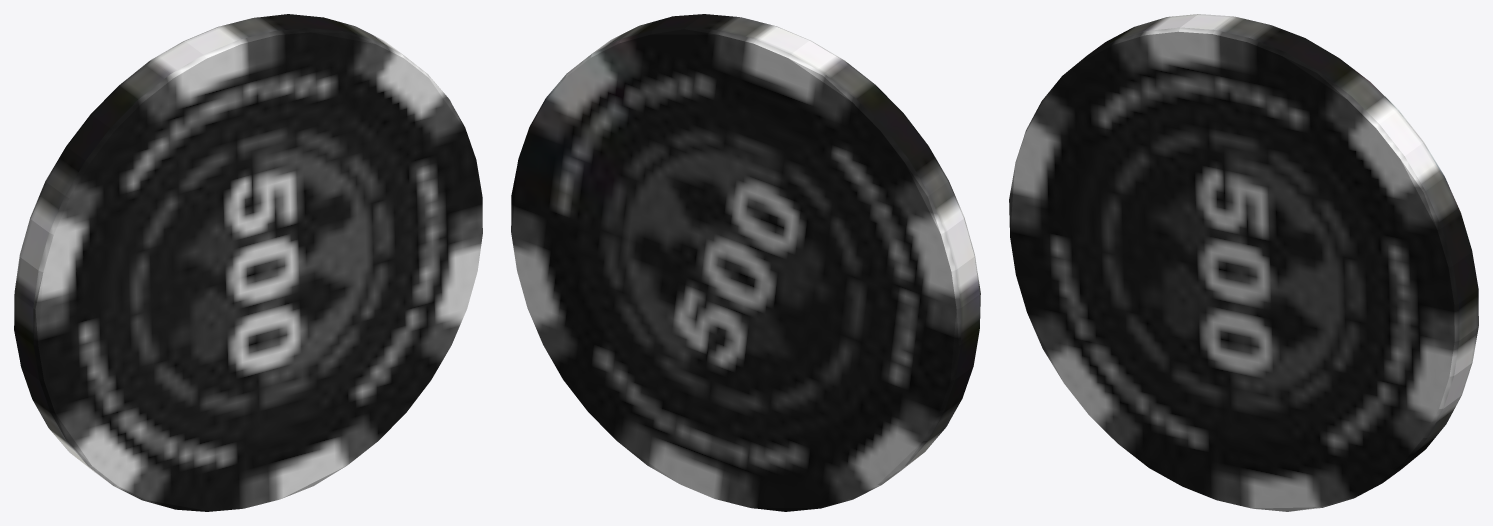
File: chip_500.glb
3 views of the same model, side by side, from view 1: azimuth 30°, elevation 25°; view 2: azimuth 150°, elevation 25°; view 3: azimuth 330°, elevation 25° (orthographic).
Parts seen in each view (by area): view 1: chip_500.obj; view 2: chip_500.obj; view 3: chip_500.obj.
Boxes of the visible parts, x1,y1,x2,y2 form: chip_500.obj: (14,14,482,511); chip_500.obj: (511,14,980,511); chip_500.obj: (1009,14,1478,511).
Size of the model in its own units: 1 by 1 by 0.0909.
Materials: 1 (1 with a texture image).
